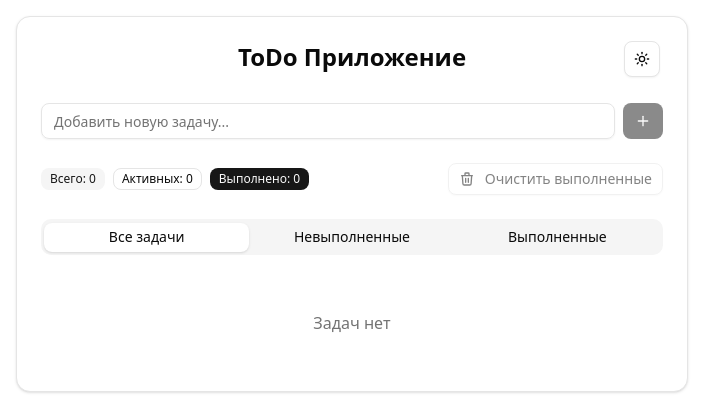
TodoApp Integration › can add a new todo
This screenshot has width=705, height=410.
Expected: the text "ToDo Приложение" is shown, [238,40,466,73]
Step 1. Type "Test todo" into the field with placeholder "Добавить новую задачу..." → (328, 121), box [41,103,615,139]
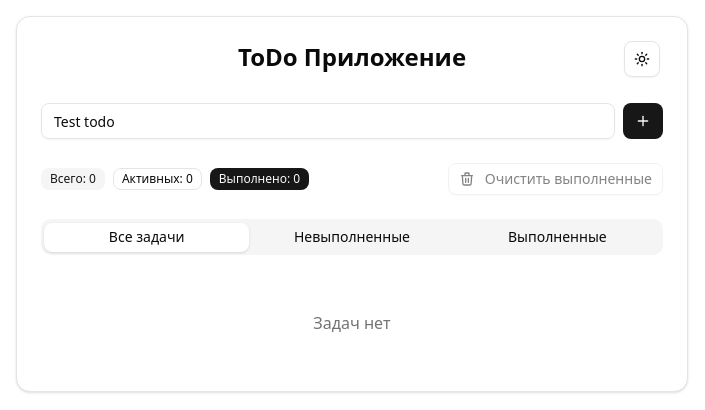
Step 2. Click the 2nd button named "добавить" → (643, 121), box [623,103,663,139]
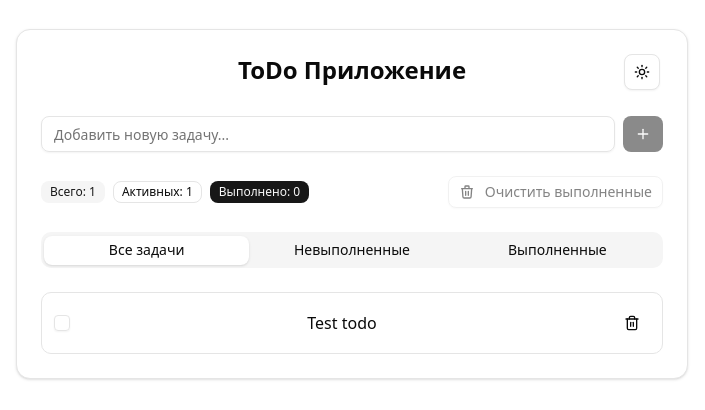
Expected: the text "Test todo" is shown, [307,312,377,334]
